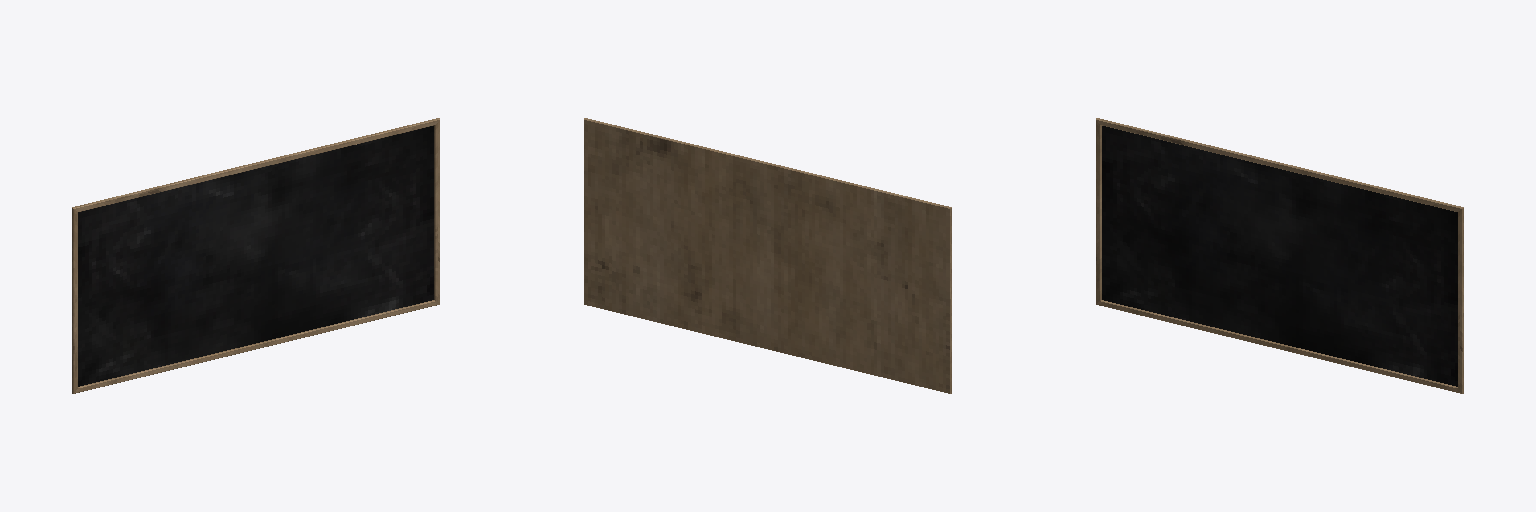
The picture shows the model from 3 angles: view 1: azimuth 30°, elevation 25°; view 2: azimuth 150°, elevation 25°; view 3: azimuth 330°, elevation 25°; orthographic projection.
Visible parts, largest first — view 1: Blackboard_Q; view 2: Blackboard_Q; view 3: Blackboard_Q.
Part boxes in pixels (left/top/right/bottom): Blackboard_Q: left=72, top=118, right=439, bottom=393; Blackboard_Q: left=584, top=118, right=951, bottom=393; Blackboard_Q: left=1096, top=118, right=1463, bottom=393.
Size of the model in its own units: 1.21 by 0.5823 by 0.0114.
Materials: 1 (1 with a texture image).